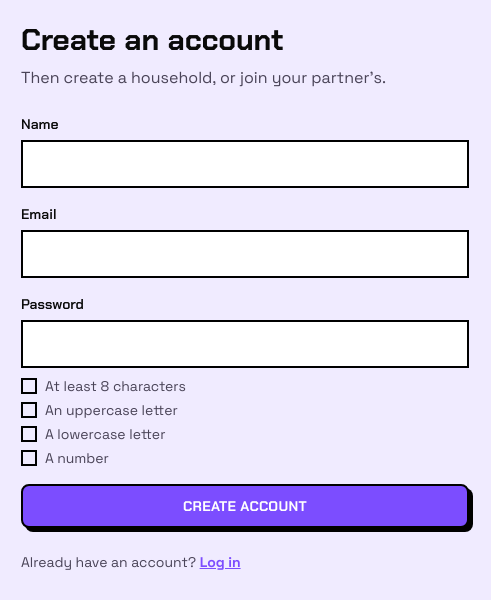
Test: a submission the client can already judge › does not complain about a half-typed email before the field is left
This screenshot has width=491, height=600.
Type "al" into the field labelled "Email" at (245, 254), box [21,230,469,278]
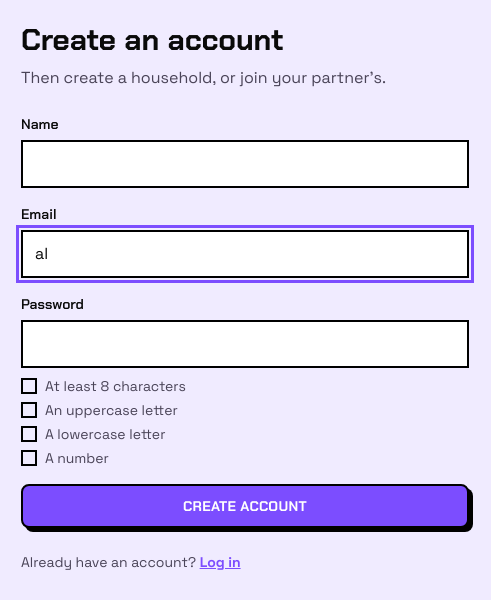
Check: the text "does not look like an email address" is not shown
Press Tab
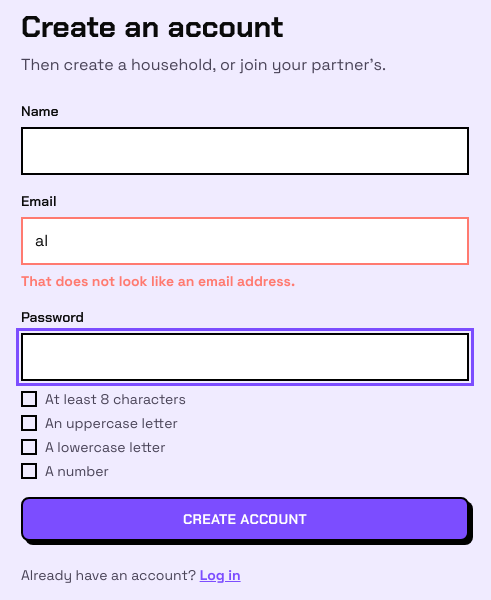
Check: the text "That does not look like an email address." is shown, box [21,272,295,290]
